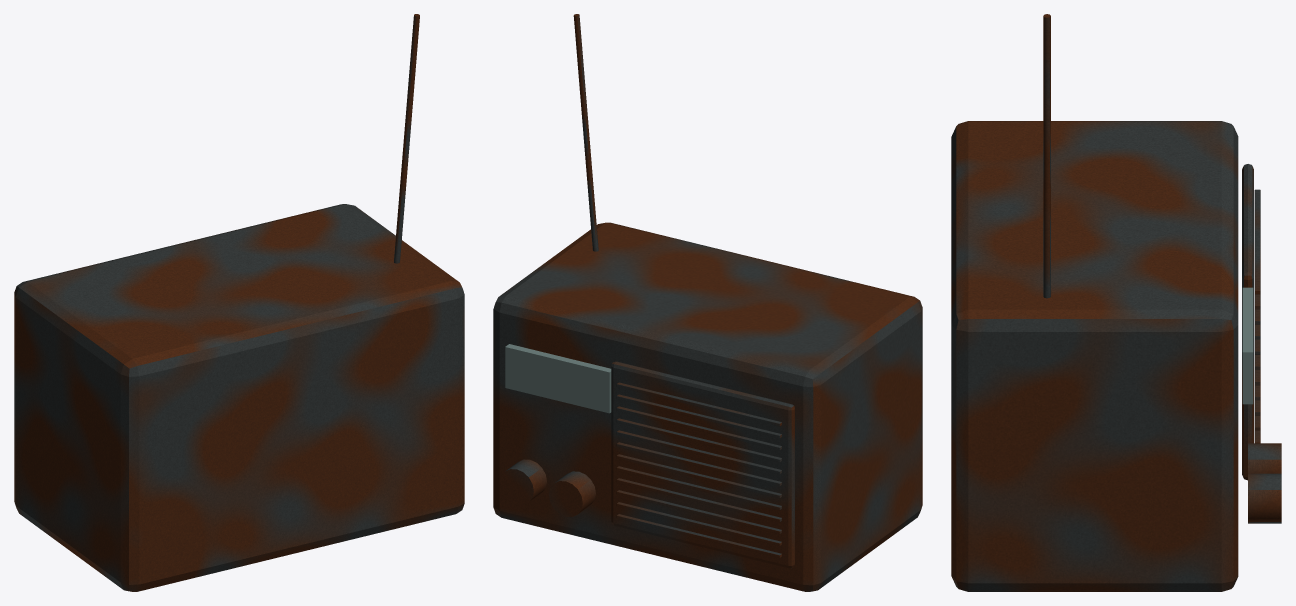
Rendered from Radio.fbx.
3 views of the same model, side by side, from view 1: azimuth 30°, elevation 25°; view 2: azimuth 150°, elevation 25°; view 3: azimuth 270°, elevation 25° (orthographic). The views are drawn at different scales.
Parts seen in each view (by area): view 1: Radio; view 2: Radio; view 3: Radio.
Part boxes in pixels (bbox=[...]): Radio: bbox=[14, 14, 464, 591]; Radio: bbox=[493, 14, 922, 591]; Radio: bbox=[951, 14, 1281, 591].
Bounding box in the file's own units: 100 × 133 × 69.
